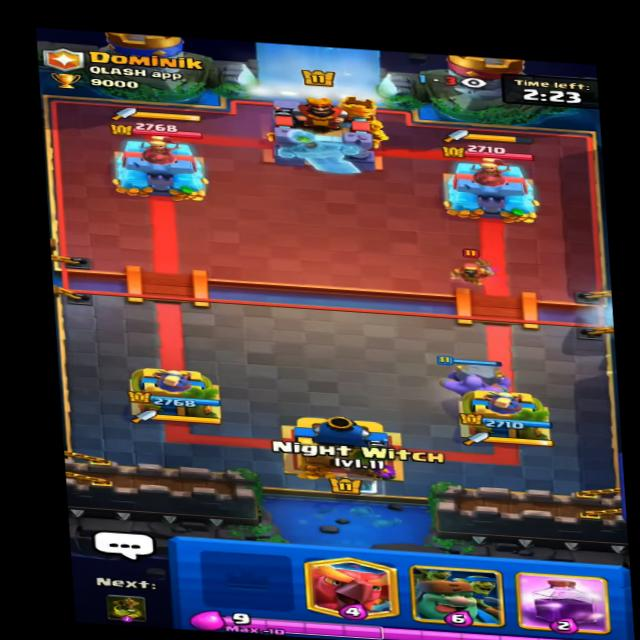wizard: (446, 244, 499, 289)
